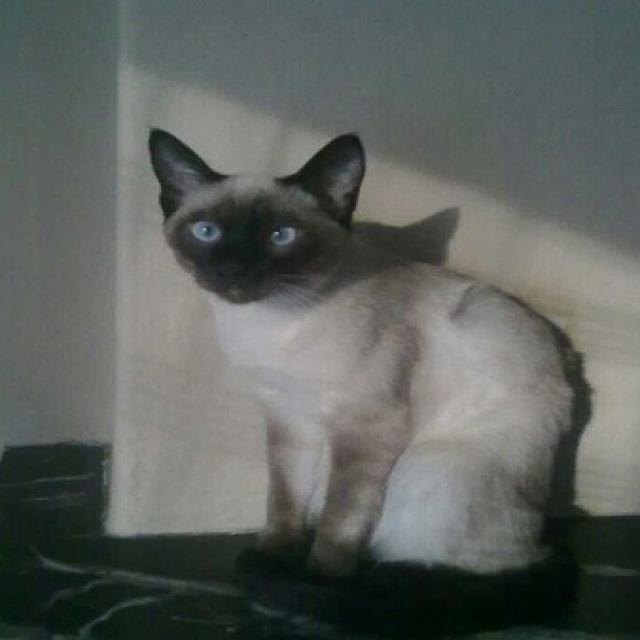Siamese: (142, 124, 588, 639)
